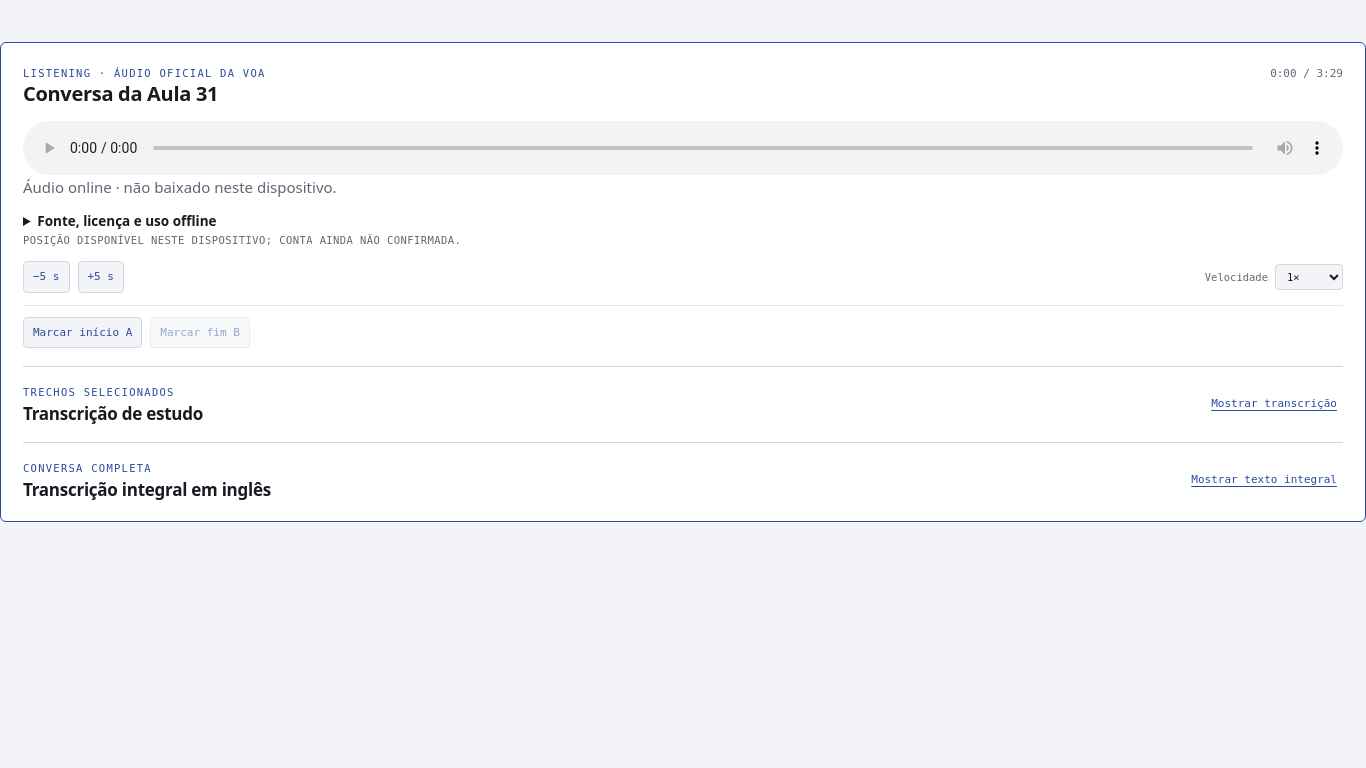
Test: LessonAudioPlayer › abre a transcrição integral e credita a página oficial
Expected: the text "Do not take the bus." is not shown
Click the button "Mostrar texto integral" at (1264, 479), box [1185,470,1343,489]
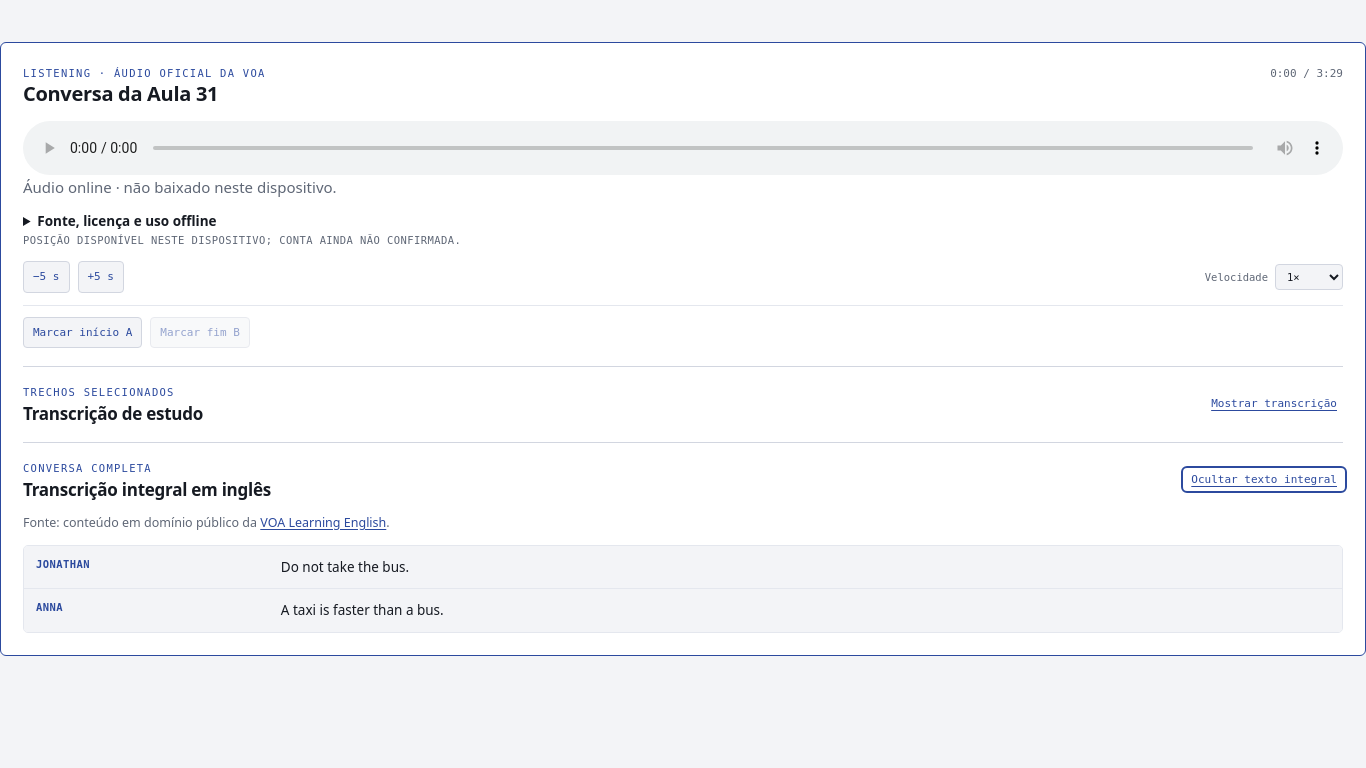
Now the text "Do not take the bus." is shown, box [281,558,409,576]
Now the text "A taxi is faster than a bus." is shown, box [281,601,444,619]
